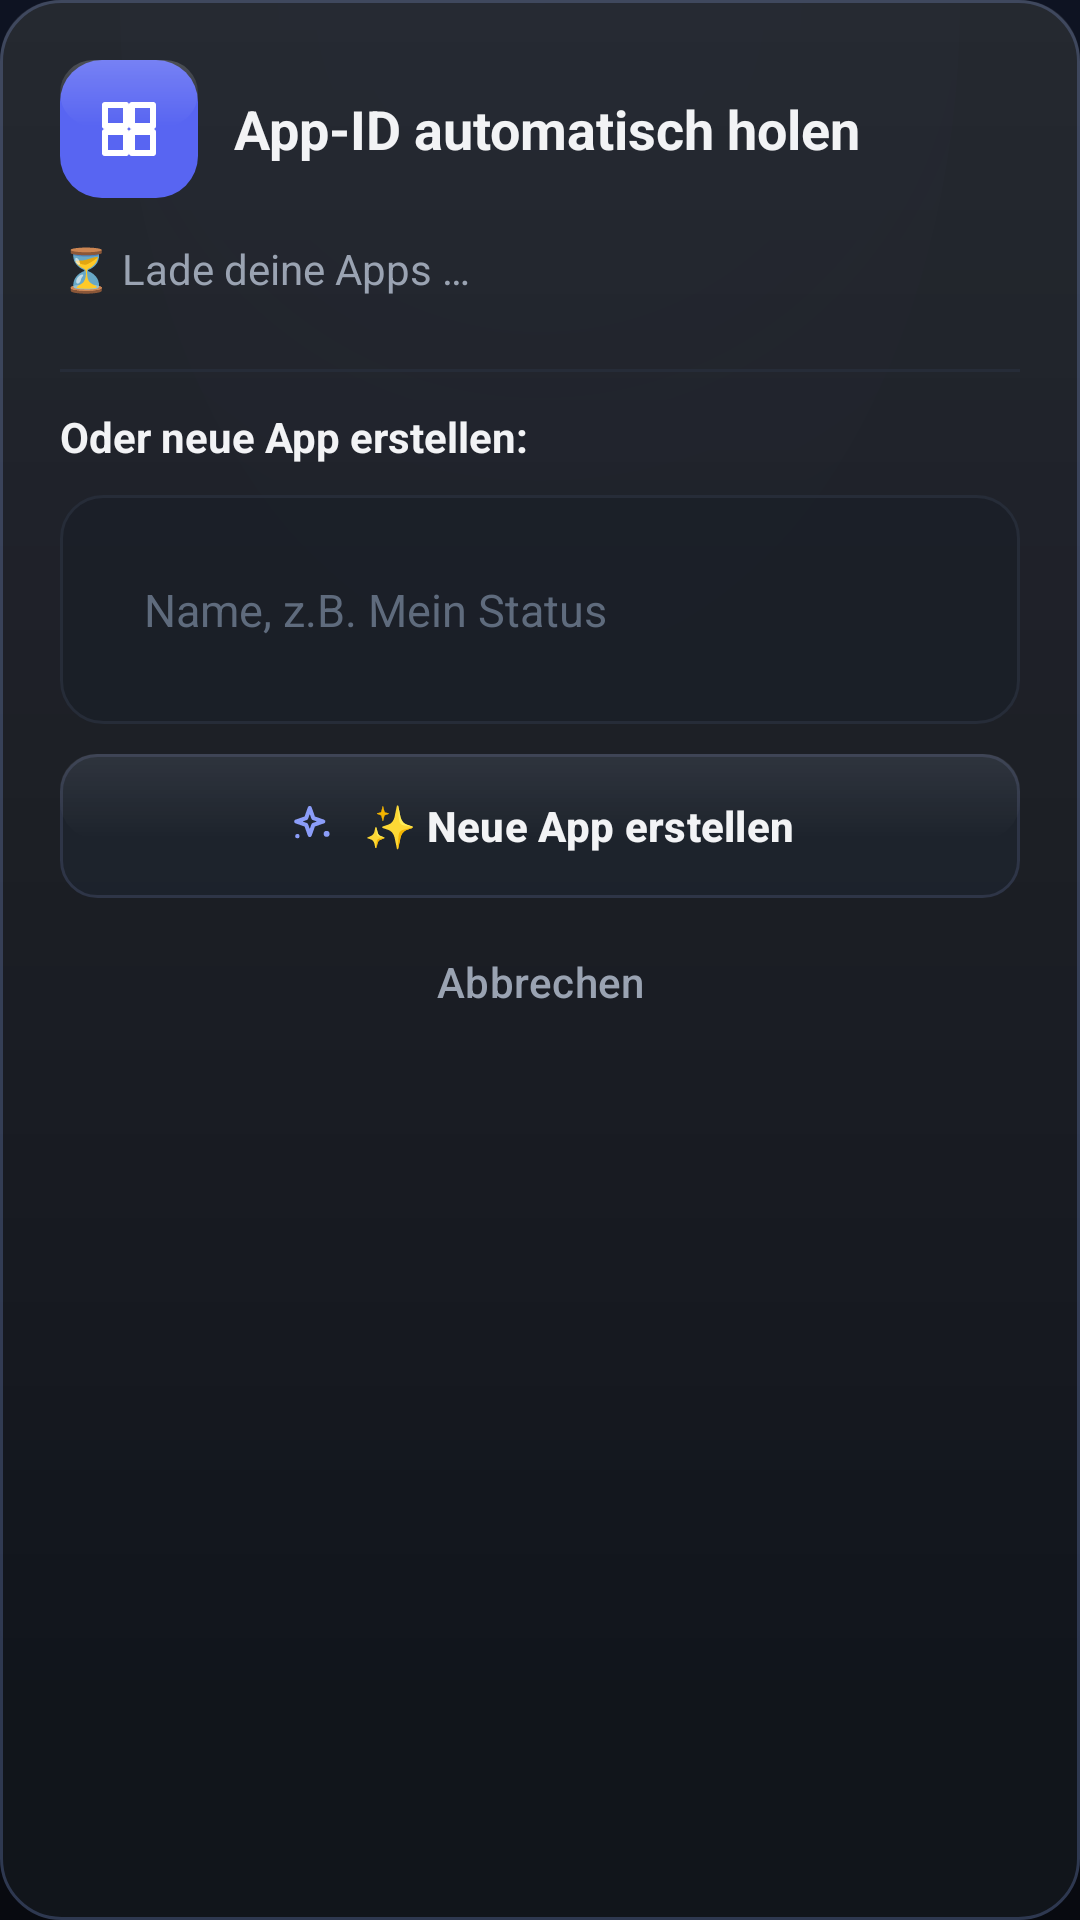

Point at icon controls on the screen. Image size 1080px x 1920px, points as (x=x, y=y).
grid: (x=129, y=129)
